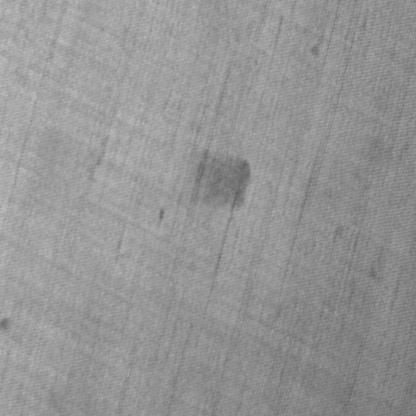oil spot: (186, 146, 252, 212)
